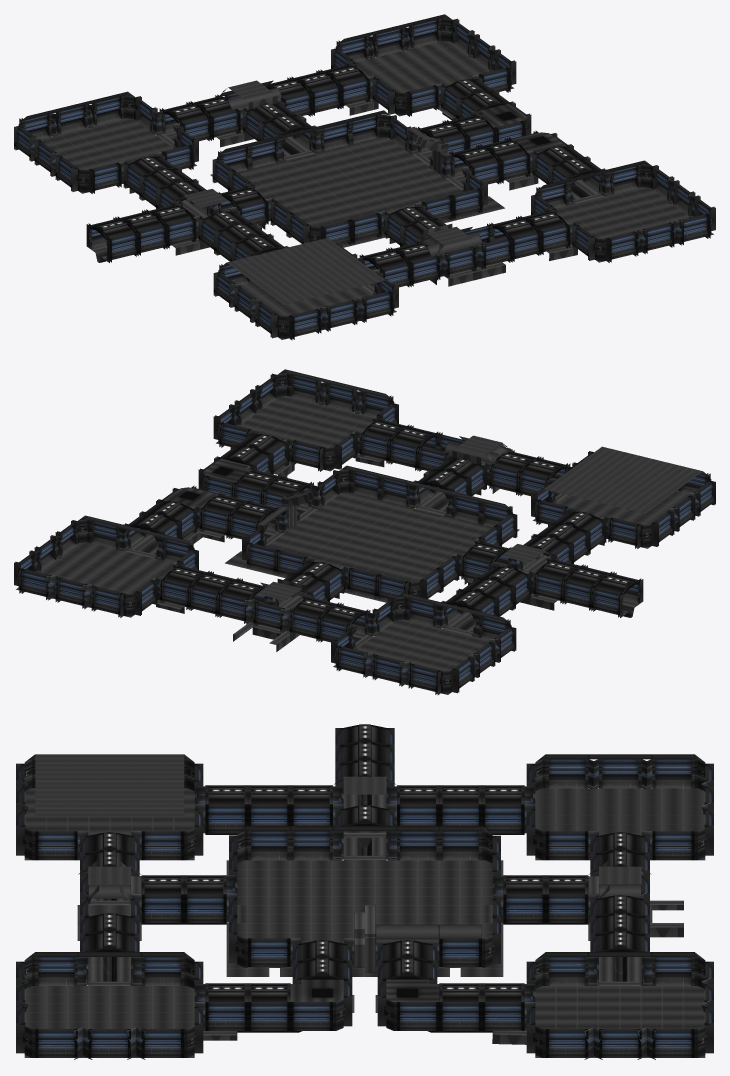
Rendered from Map 3.obj.
3 views of the same model, one above another, from view 1: azimuth 30°, elevation 25°; view 2: azimuth 150°, elevation 25°; view 3: azimuth 270°, elevation 25° (orthographic). The views are drawn at different scales.
Parts seen in each view (by area): view 1: Cube.157_Cube.221, Cube.055_Cube.061, Cube.209_Cube.273, Cube.156_Cube.220, Cube.252_Cube.316, Cube.159_Cube.223, Cube.255_Cube.319, Cube.183_Cube.247, Cube.087_Cube.098, Cube.203_Cube.267, Cube.277_Cube.343, Cube.135_Cube.150 (+48 smaller); view 2: Cube.056_Cube.062, Cube.076_Cube.087, Cube.202_Cube.266, Cube.119_Cube.130, Cube.134_Cube.149, Cube.218_Cube.282, Cube.144_Cube.161, Cube.200_Cube.264, Cube.024_Cube.030, Cube.182_Cube.246, Cube.268_Cube.332, Cube.255_Cube.319 (+48 smaller); view 3: Cube.178_Cube.242, Cube.130_Cube.145, Cube.124_Cube.135, Cube.177_Cube.241, Cube.131_Cube.146, Cube.123_Cube.134, Cube.121_Cube.132, Cube.064_Cube.074, Cube.063_Cube.073, Cube.062_Cube.041, Cube.061_Cube.038, Cube.266_Cube.330 (+72 smaller).
Boxes of the visible parts, x1,y1,x2,y2 form: Cube.157_Cube.221: (289,308,321,340); Cube.055_Cube.061: (106,231,138,262); Cube.209_Cube.273: (406,85,438,116); Cube.156_Cube.220: (361,291,393,322); Cube.252_Cube.316: (678,214,710,245); Cube.159_Cube.223: (325,300,357,331); Cube.255_Cube.319: (642,222,674,254); Cube.183_Cube.247: (444,246,476,278); Cube.087_Cube.098: (450,188,482,219); Cube.203_Cube.267: (338,77,370,108); Cube.277_Cube.343: (480,237,512,269); Cube.135_Cube.150: (209,109,240,140); Cube.056_Cube.062: (591,586,623,617); Cube.076_Cube.087: (347,567,379,598); Cube.202_Cube.266: (159,578,191,609); Cube.119_Cube.130: (372,655,404,686); Cube.134_Cube.149: (289,610,321,641); Cube.218_Cube.282: (55,577,87,609); Cube.144_Cube.161: (253,601,285,632); Cube.200_Cube.264: (217,592,249,624); Cube.024_Cube.030: (533,572,565,603); Cube.182_Cube.246: (489,464,520,495); Cube.268_Cube.332: (359,432,391,463); Cube.255_Cube.319: (325,382,357,411); Cube.178_Cube.242: (141,831,184,860); Cube.130_Cube.145: (545,831,588,860); Cube.124_Cube.135: (545,759,588,788); Cube.177_Cube.241: (35,831,77,860); Cube.131_Cube.146: (652,831,694,860); Cube.123_Cube.134: (652,759,694,788); Cube.121_Cube.132: (599,759,641,788); Cube.064_Cube.074: (248,831,290,860); Cube.063_Cube.073: (439,831,481,860); Cube.062_Cube.041: (290,831,332,860); Cube.061_Cube.038: (397,831,439,860); Cube.266_Cube.330: (141,957,184,985).
Size of the model in its own units: 68 by 6.35 by 66.
